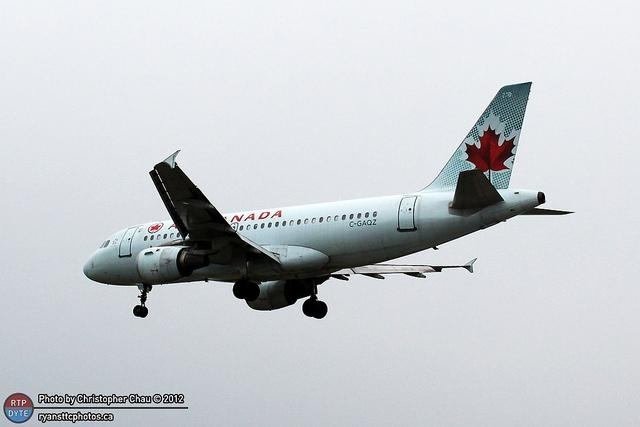airplane: (77, 76, 577, 325)
